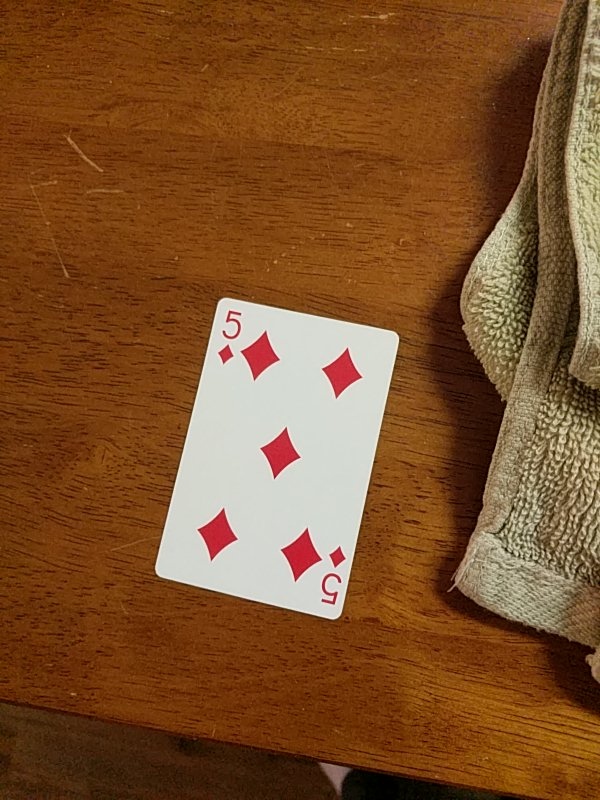Diamonds: (154, 297, 403, 625)
